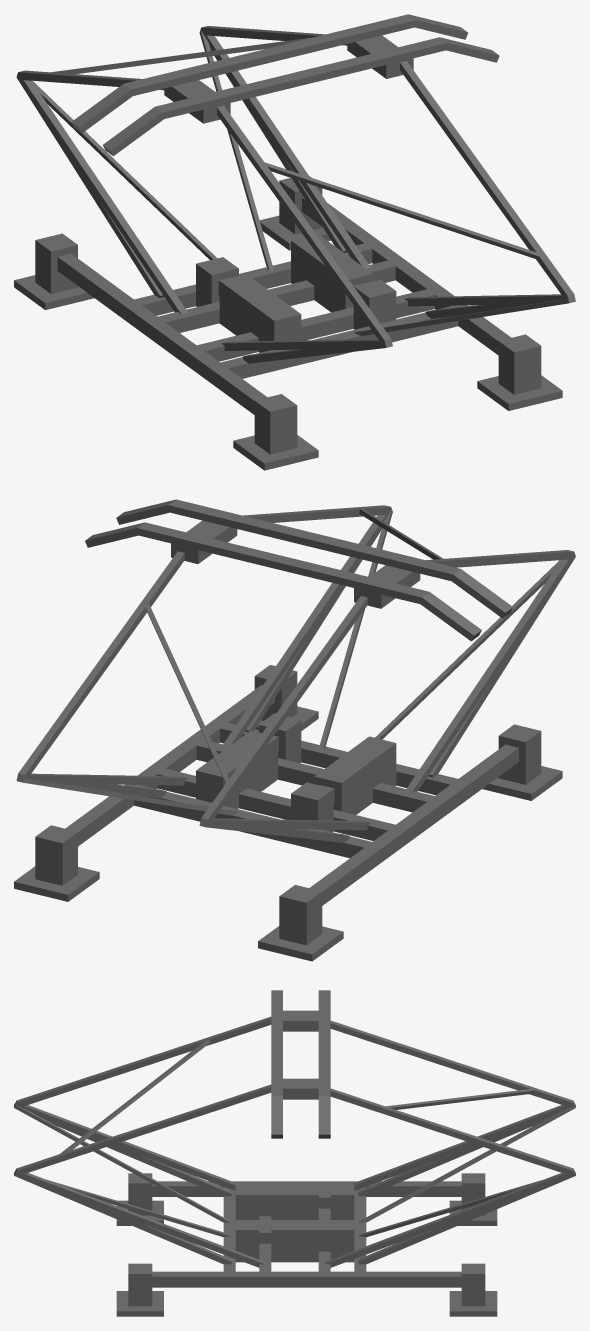
The model's file is model_panta.gltf.
3 renders of one model, top to bottom at view 1: azimuth 30°, elevation 25°; view 2: azimuth 150°, elevation 25°; view 3: azimuth 270°, elevation 25°, orthographic. The views are drawn at different scales.
Parts seen in each view (by area): view 1: daiza (×19), panta3 (×9), suriita (×8), panta4 (×3), panta2 (×3), panta (×2); view 2: daiza (×18), panta3 (×9), suriita (×8), panta2 (×3), panta4 (×3), panta (×2); view 3: daiza (×19), panta3 (×10), panta4 (×3), suriita (×6), panta2 (×3), panta (×2).
Part boxes in pixels (x1,y1,x2,y2): daiza (×19): (14, 176, 562, 470); panta3 (×9): (16, 28, 575, 363); suriita (×8): (71, 14, 499, 156); panta4 (×3): (217, 61, 573, 345); panta2 (×3): (18, 26, 376, 90); panta (×2): (16, 42, 346, 297); daiza (×18): (14, 665, 562, 961); panta3 (×9): (23, 508, 575, 830); suriita (×8): (85, 499, 512, 641); panta2 (×3): (18, 551, 367, 819); panta4 (×3): (243, 505, 574, 567); panta (×2): (16, 773, 349, 842); daiza (×19): (116, 1173, 497, 1316); panta3 (×10): (14, 1101, 575, 1267); panta4 (×3): (16, 1016, 271, 1175); suriita (×6): (271, 990, 330, 1138); panta2 (×3): (316, 1016, 573, 1175); panta (×2): (357, 1101, 575, 1264).
Bounding box in the file's own units: 0.00709 × 0.00494 × 0.0117.
Materials: 1 (1 with a texture image).
